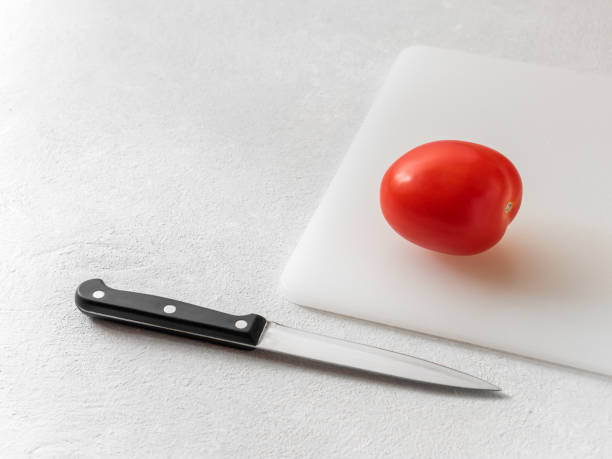knife: (71, 275, 506, 395)
